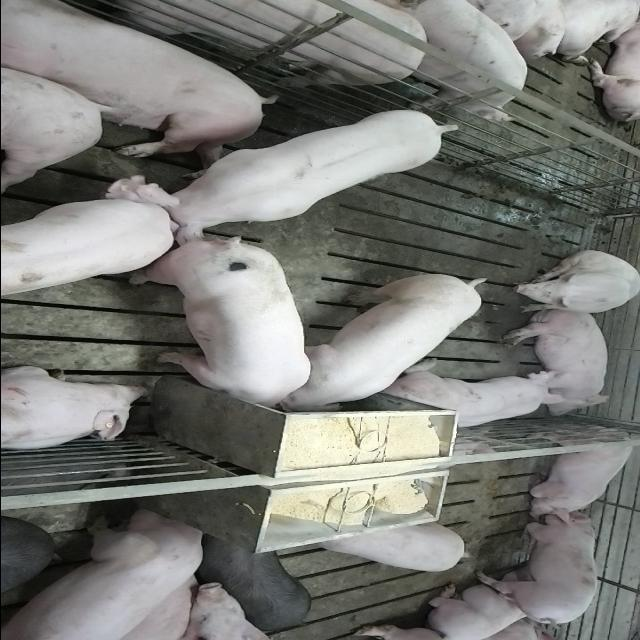Feeding: (126, 243, 310, 419), (279, 269, 493, 411)
Lateral_lying: (0, 4, 274, 158), (500, 307, 614, 417)
Sitting: (516, 422, 640, 515), (503, 251, 638, 315)
Standing: (122, 108, 460, 246), (7, 0, 433, 89), (5, 508, 214, 639), (0, 178, 176, 300), (385, 0, 533, 118), (475, 509, 603, 624), (195, 537, 313, 632), (316, 523, 474, 576)
Sternal_lying: (0, 366, 150, 454), (377, 364, 564, 433), (428, 576, 556, 638)
